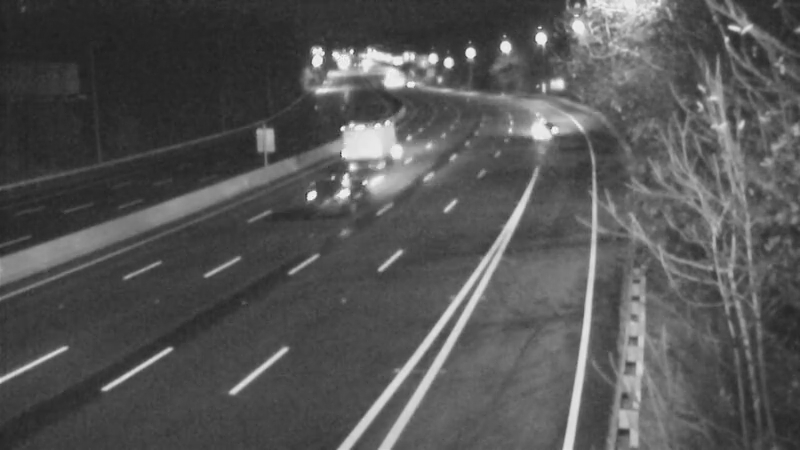vehicle: (294, 154, 374, 234), (382, 61, 432, 111), (521, 107, 571, 157), (344, 118, 394, 168)
